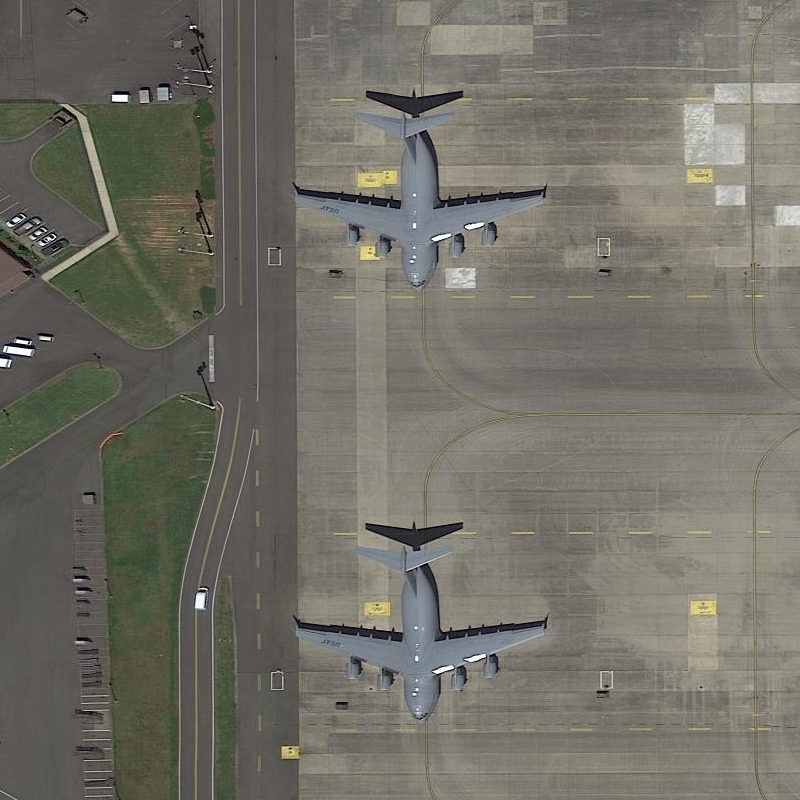A3: (287, 97, 550, 294), (286, 541, 551, 728)
